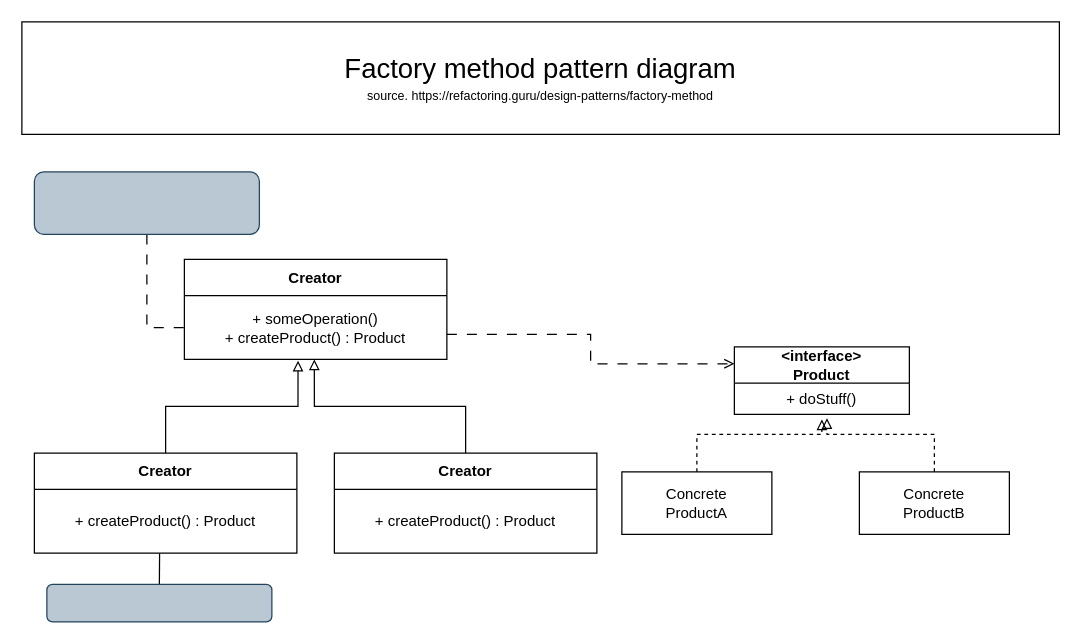
The diagram is 1081 pixels wide and 644 high, and some of its shapes have lost their labels. The centre of each missing label's shape, as x and y in pixels:
Product p = createProduct() p.doStuff(): [146,202]
return new ConcreteProductA(): [159,602]
